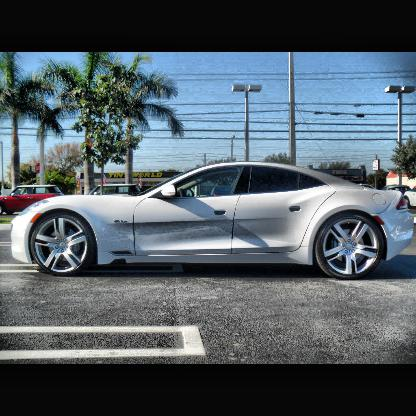Fisker Karma Sedan 2012: (11, 162, 416, 283)
